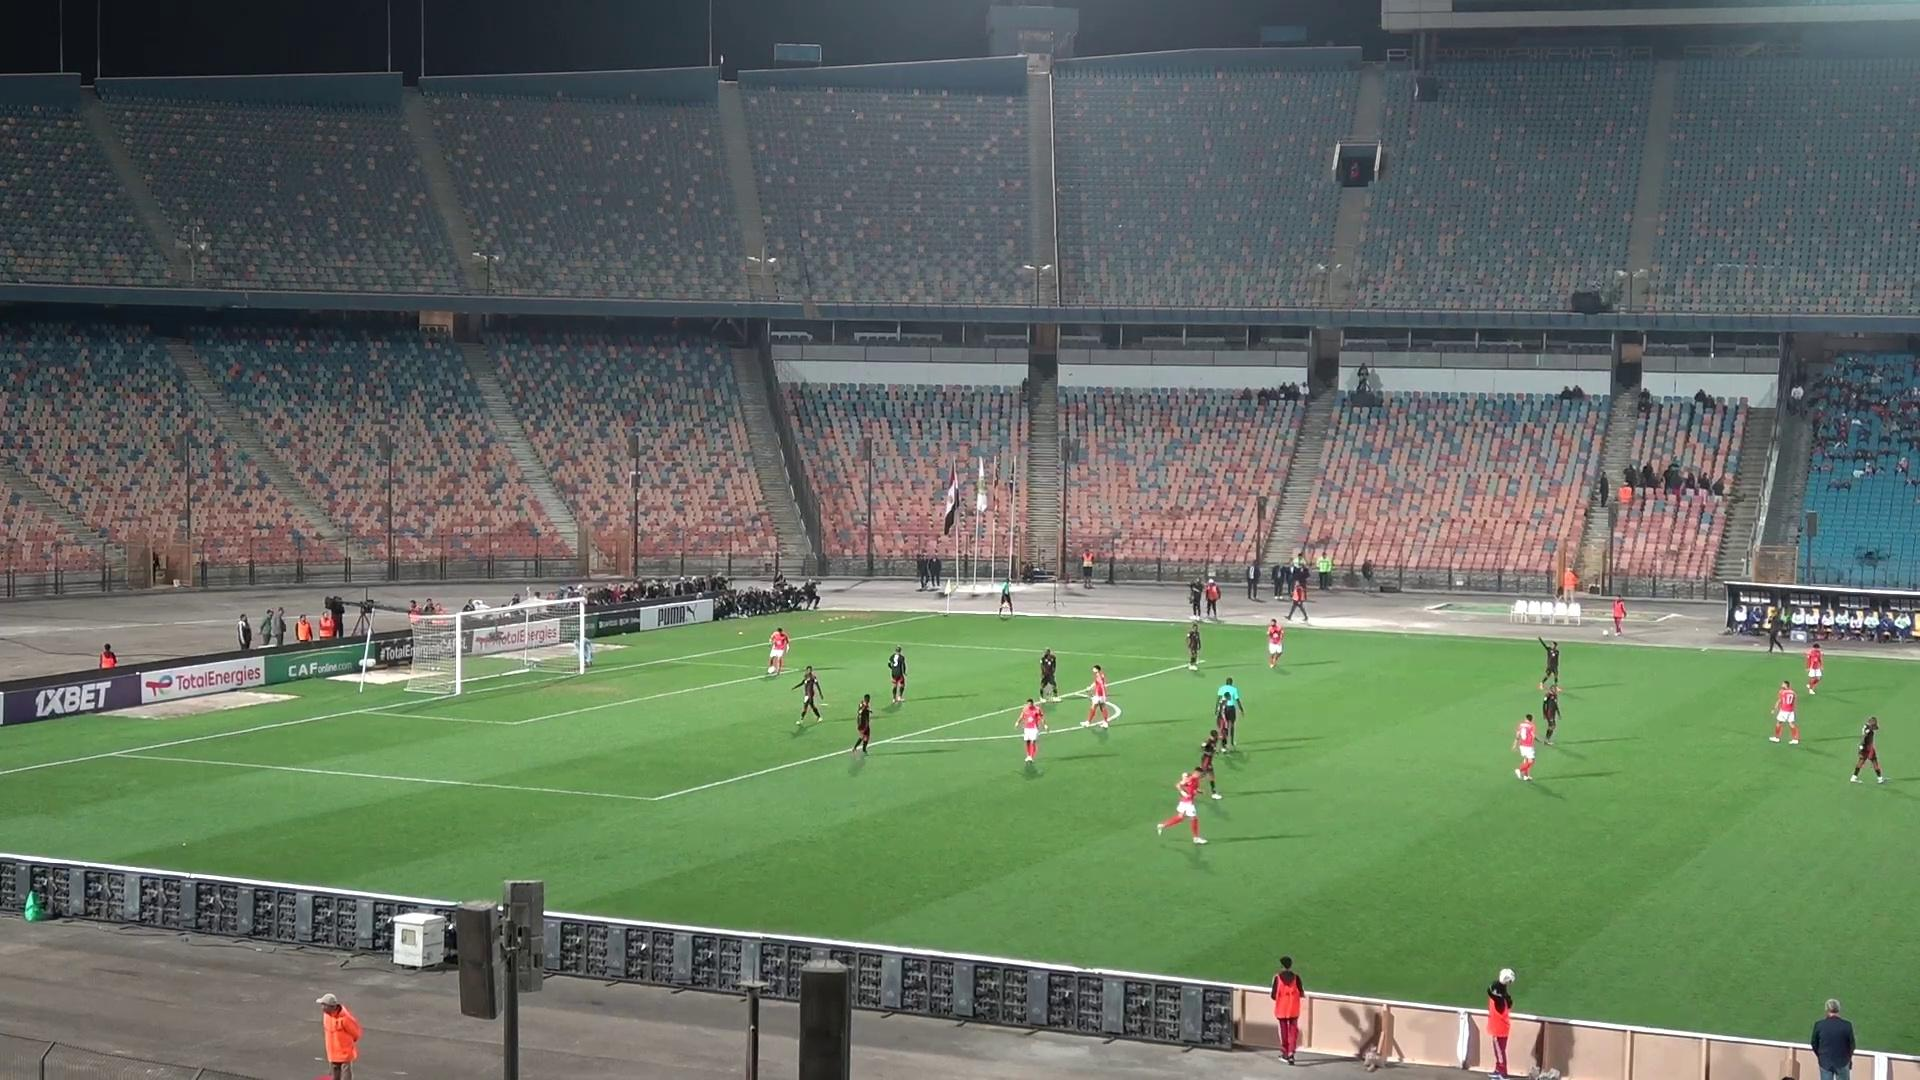Refree: (996, 574, 1015, 618)
Team1: (1156, 767, 1207, 843), (1768, 680, 1800, 744), (1015, 699, 1046, 764), (766, 629, 789, 675)
Team2: (1847, 717, 1887, 783), (1192, 731, 1222, 800), (1538, 638, 1563, 702), (796, 666, 823, 723), (1038, 647, 1058, 700)
